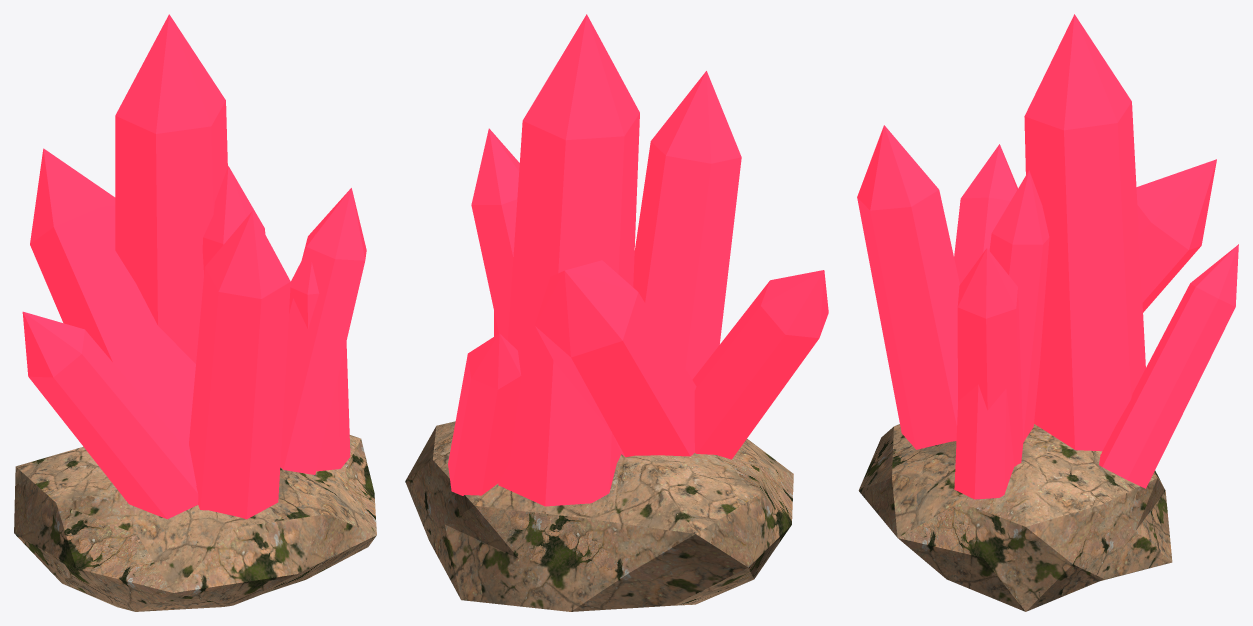
Rendered from Crystal_Red_L.fbx.
3 renders of one model, left to right at view 1: azimuth 30°, elevation 25°; view 2: azimuth 150°, elevation 25°; view 3: azimuth 270°, elevation 25°, orthographic. The views are drawn at different scales.
Parts seen in each view (by area): view 1: Crystal_Red_L; view 2: Crystal_Red_L; view 3: Crystal_Red_L.
Boxes of the visible parts, left/top/right/bottom form: Crystal_Red_L: left=14, top=14, right=376, bottom=611; Crystal_Red_L: left=405, top=14, right=828, bottom=611; Crystal_Red_L: left=857, top=14, right=1238, bottom=611.
Bounding box in the file's own units: 3.58 × 5.35 × 3.37.
